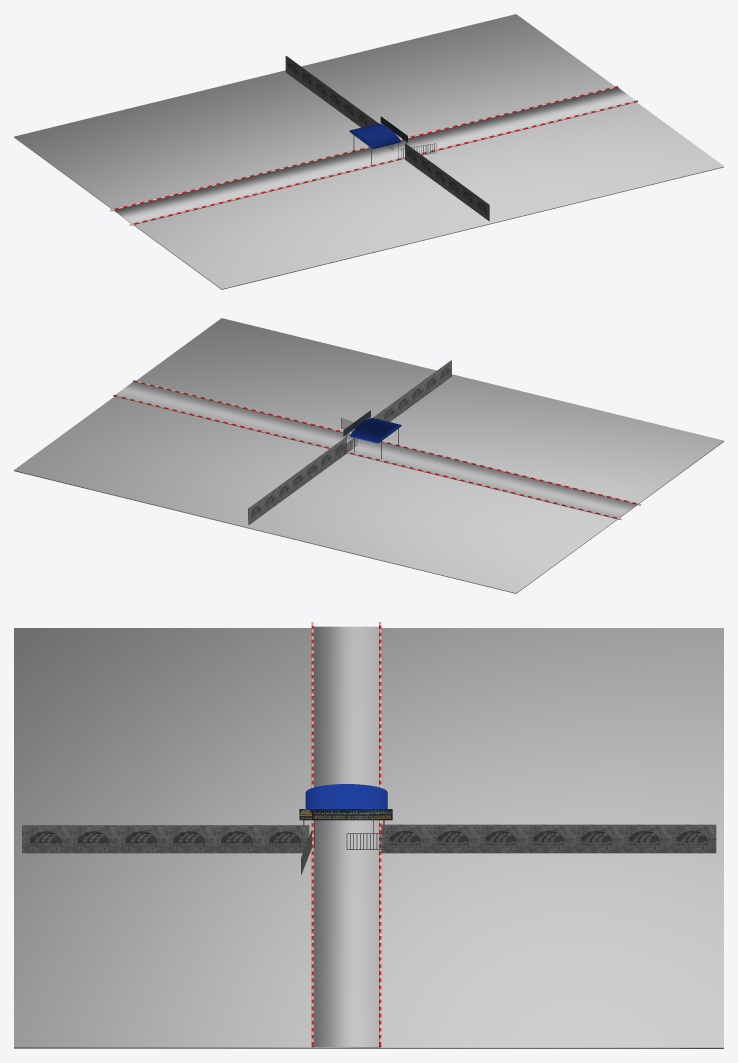
The model's file is babezzouar2.fbx.
3 views of the same model, one above another, from view 1: azimuth 30°, elevation 25°; view 2: azimuth 150°, elevation 25°; view 3: azimuth 270°, elevation 25° (orthographic). The views are drawn at different scales.
Visible parts, largest first — view 1: world, road, wall2, trotoire_blanc1, trotoire_rouge_1, tente; view 2: world, road, wall2, trotoire_blanc1, trotoire_rouge_1, tente; view 3: world, road, wall2, tente, trotoire_blanc1, trotoire_rouge_1, panneau.
Part boxes in pixels (box(x1,y1,x2,y2)): world: box(14, 14, 723, 289); road: box(114, 87, 635, 223); wall2: box(285, 56, 489, 220); trotoire_blanc1: box(110, 87, 633, 225); trotoire_rouge_1: box(114, 86, 637, 224); tente: box(349, 123, 400, 148); world: box(14, 318, 723, 593); road: box(113, 381, 636, 518); wall2: box(248, 360, 451, 524); trotoire_blanc1: box(117, 381, 641, 519); trotoire_rouge_1: box(113, 380, 636, 518); tente: box(350, 418, 401, 443); world: box(14, 628, 723, 1048); road: box(313, 626, 378, 1047); wall2: box(22, 824, 716, 853); tente: box(305, 784, 387, 808); trotoire_blanc1: box(311, 622, 381, 1041); trotoire_rouge_1: box(311, 625, 381, 1047); panneau: box(299, 809, 392, 820).
Bounding box in the file's own units: 21439 × 1083 × 15191.
